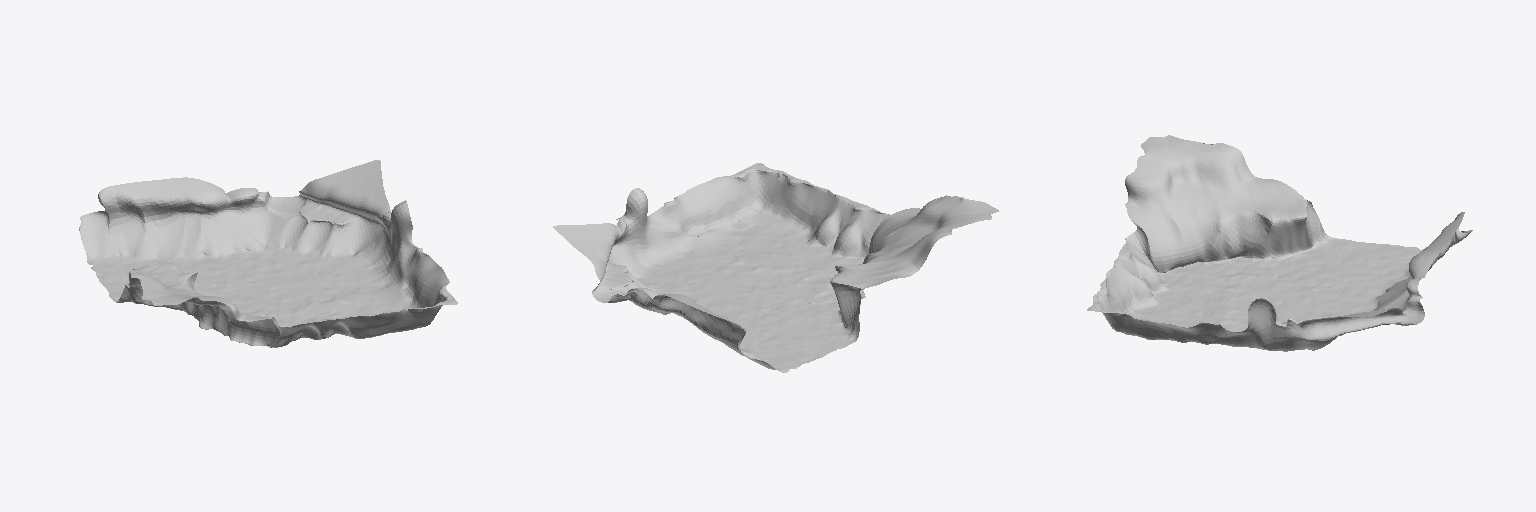
File: AutoTerrainGenerator_Base_LITE.obj
3 renders of one model, left to right at view 1: azimuth 30°, elevation 25°; view 2: azimuth 150°, elevation 25°; view 3: azimuth 270°, elevation 25°, orthographic.
Parts seen in each view (by area): view 1: Grid; view 2: Grid; view 3: Grid.
Part boxes in pixels (bbox=[...]): Grid: bbox=[79, 160, 457, 347]; Grid: bbox=[553, 163, 998, 372]; Grid: bbox=[1087, 135, 1472, 351].
Bounding box in the file's own units: 83.12 × 18.54 × 82.25.